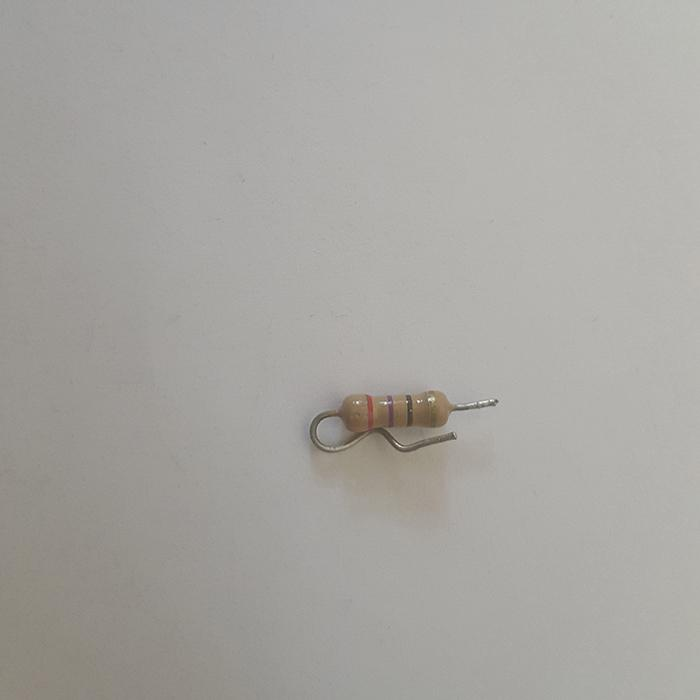resistor: (335, 389, 457, 432)
